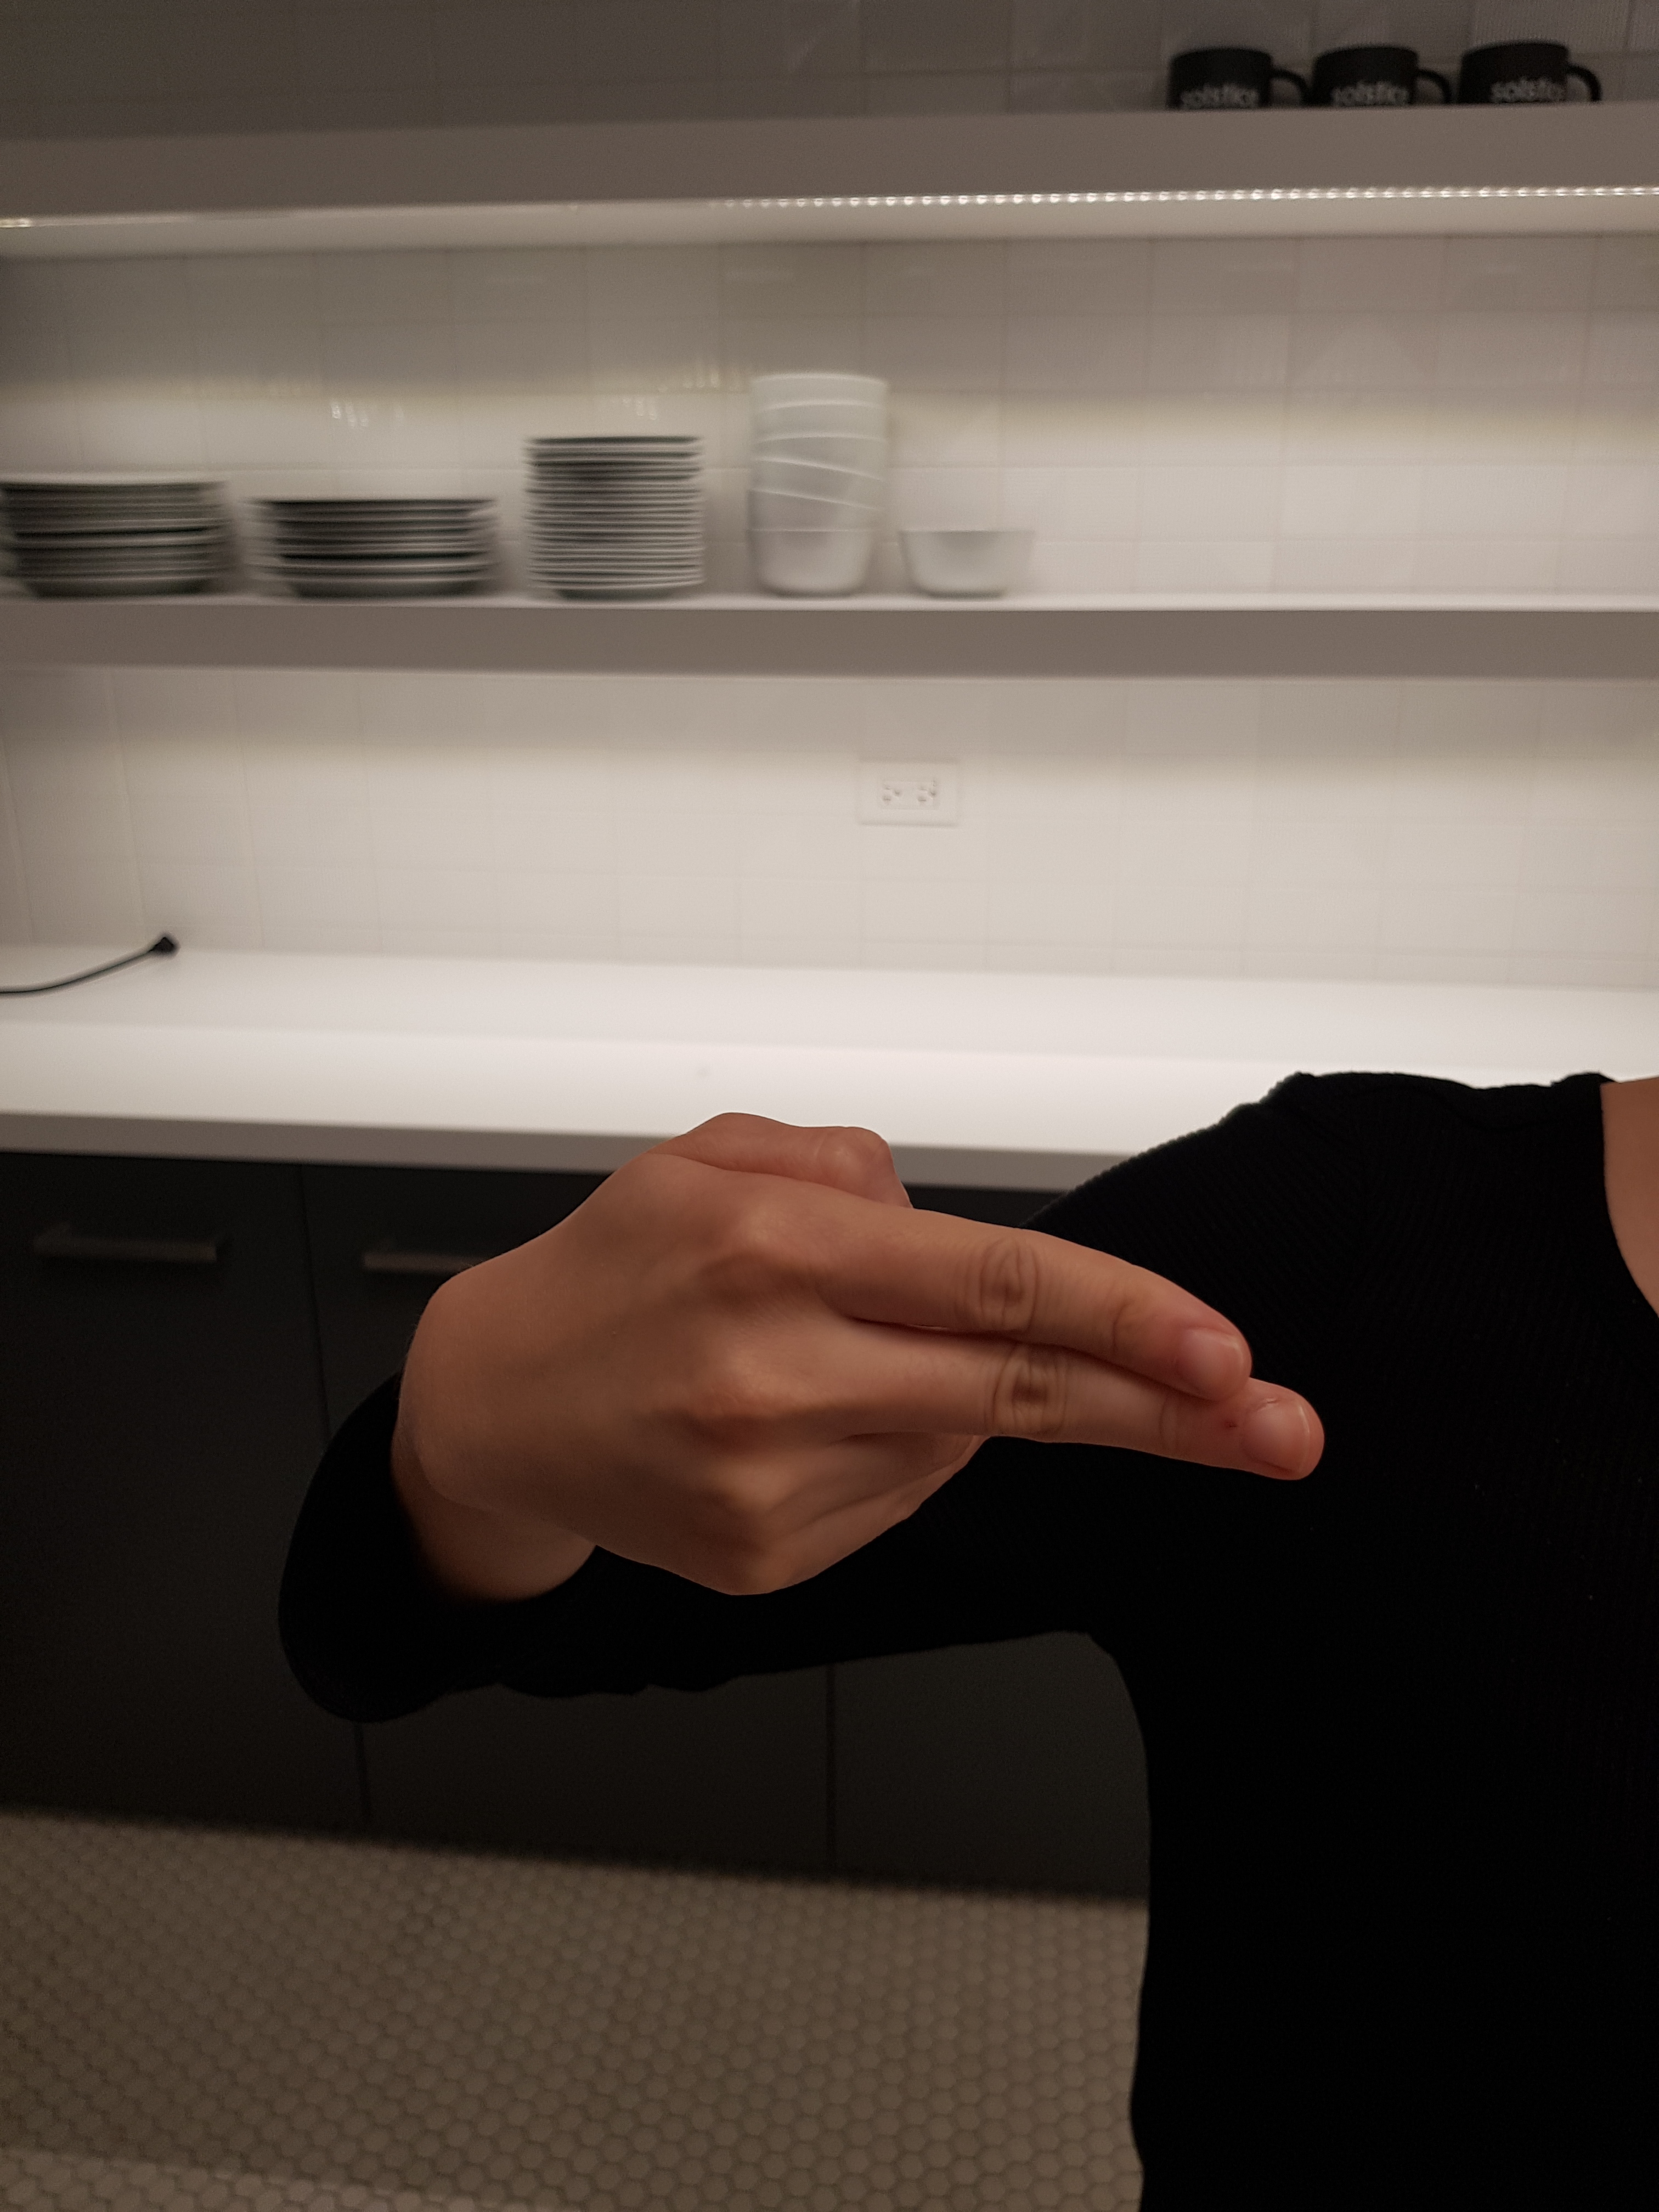h: (335, 1055, 1356, 1609)
